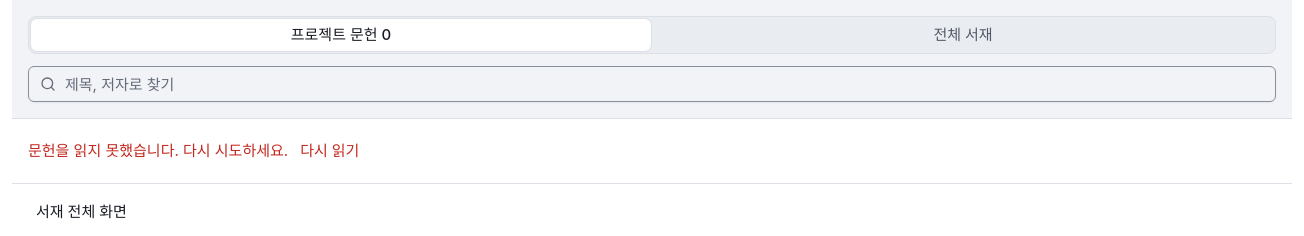
Test: project library inspector › shows a readable failure and allows retry without exposing a raw server error
Expected: the message shows "문헌을 읽지 못했습니다", left=28, top=141, right=288, bottom=160
Click the button "다시 읽기" at [330, 151], box left=288, top=135, right=371, bottom=167
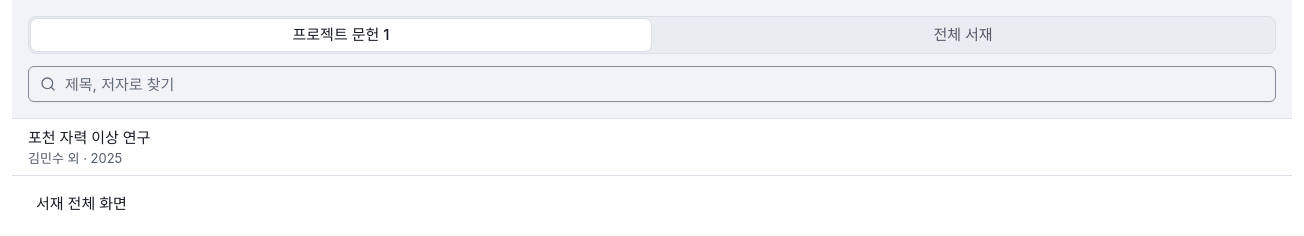
Expected: the button "포천 자력 이상 연구 김민수 외 · 2025" is shown, left=12, top=119, right=1292, bottom=175
